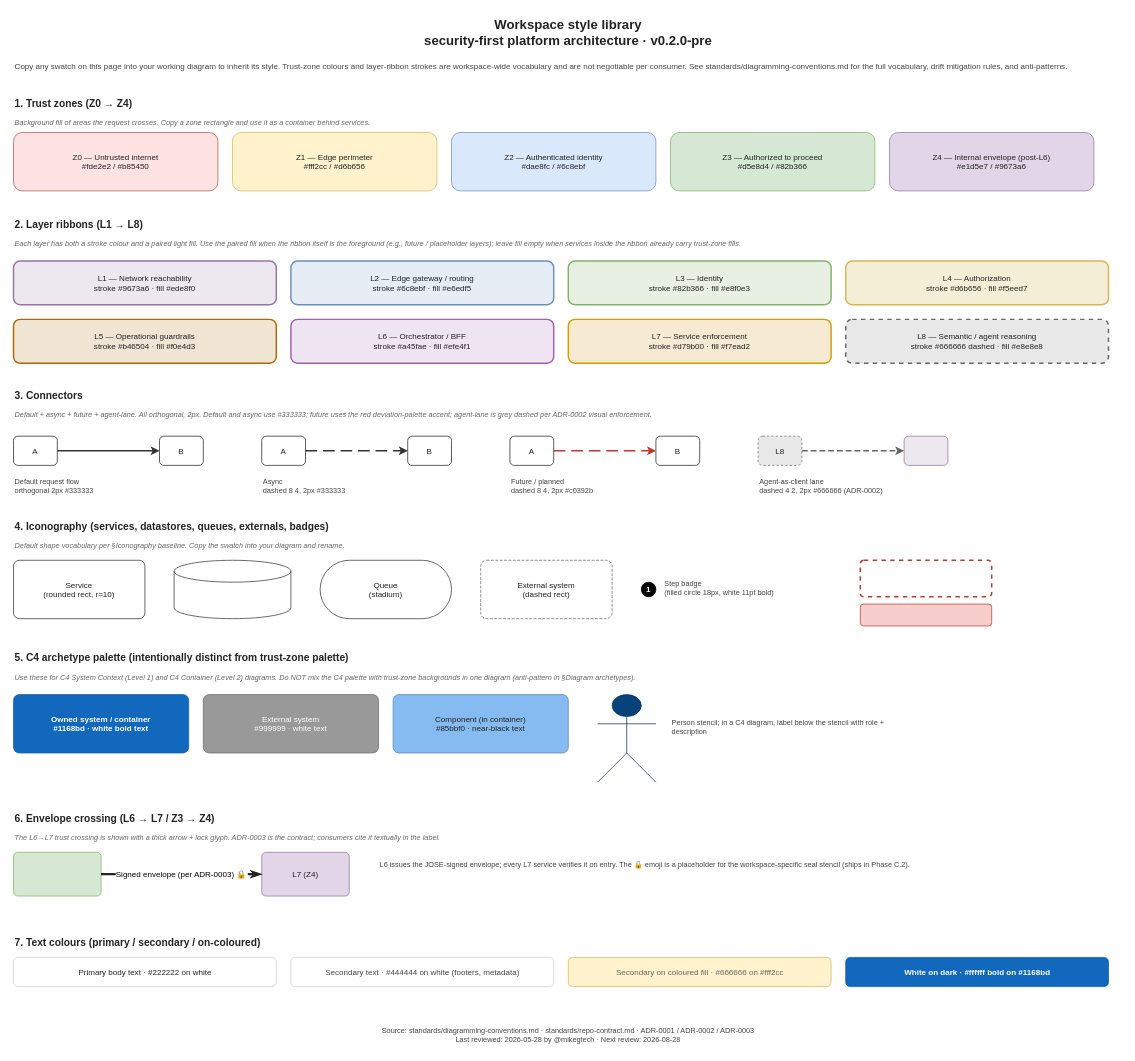
The diagram is 1135 pixels wide and 1061 high, and some of its shapes have lost their labels. The box of each missing label's shape, as (x1, y1, x2, y2) in pixels:
Affected service: (859, 559, 992, 597)
Datastore (cylinder): (173, 560, 291, 619)
DEV-NNN: one-line summary: (860, 603, 992, 626)
L1/L2: (903, 435, 948, 465)
L6 (Z3): (13, 852, 101, 896)
Person (external actor) #08427b · white text: (597, 694, 656, 782)
